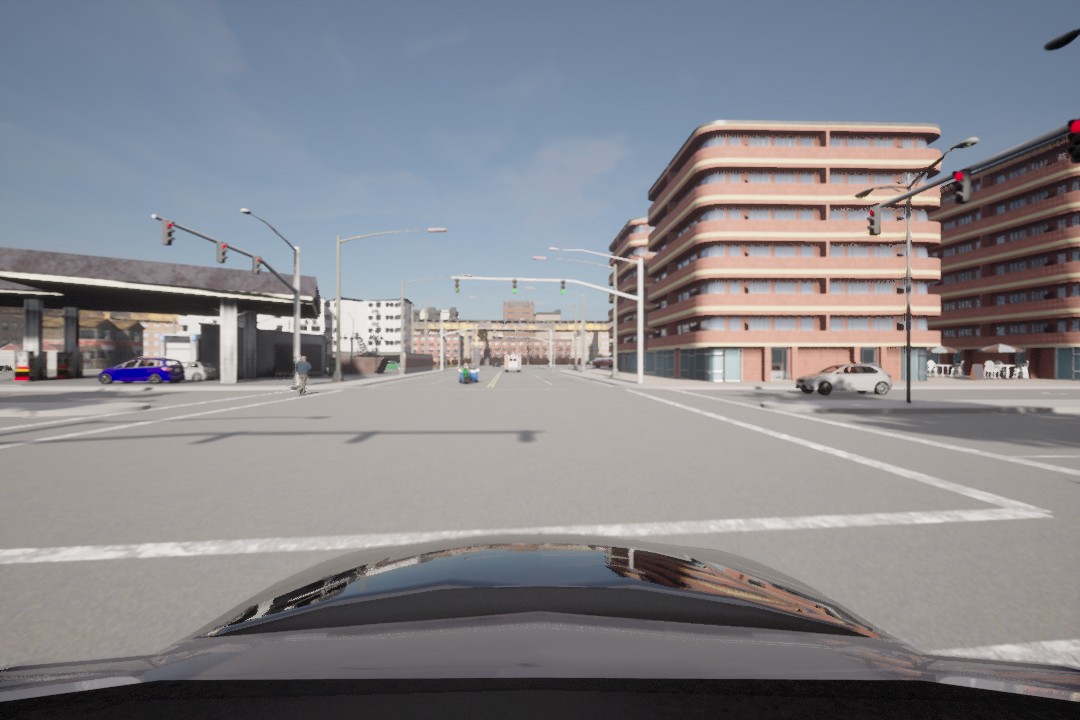TrafficLight: (1062, 117, 1080, 163), (951, 167, 971, 202), (866, 204, 887, 237), (159, 218, 177, 245), (214, 239, 229, 267), (249, 254, 262, 277), (453, 277, 462, 294), (558, 277, 567, 294), (511, 276, 518, 294)
